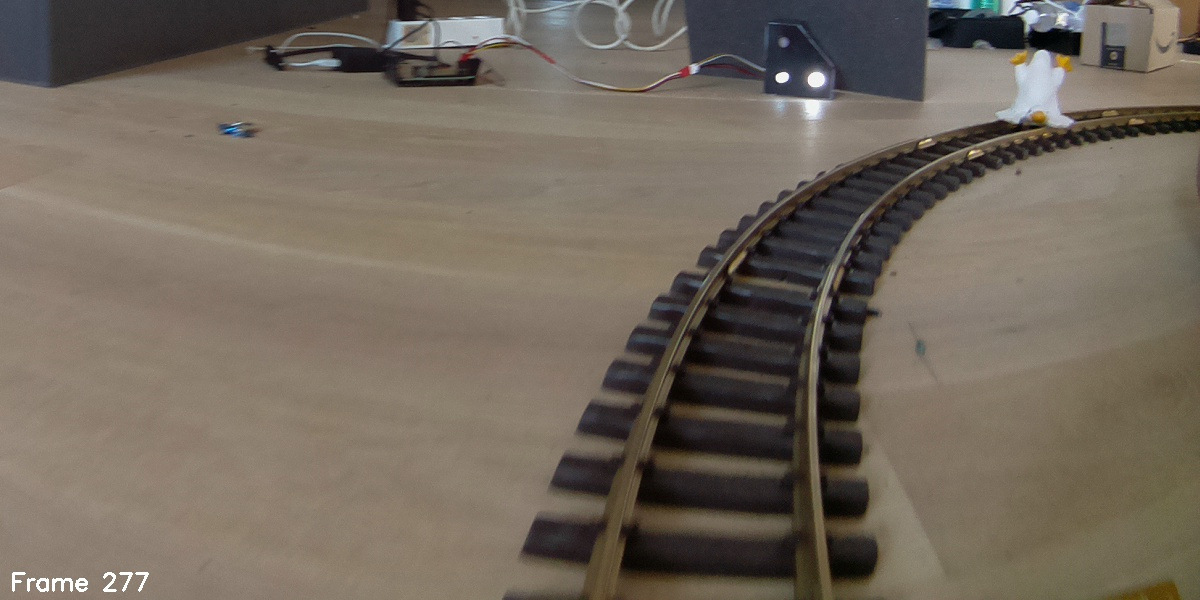Halt: (764, 22, 836, 96)
